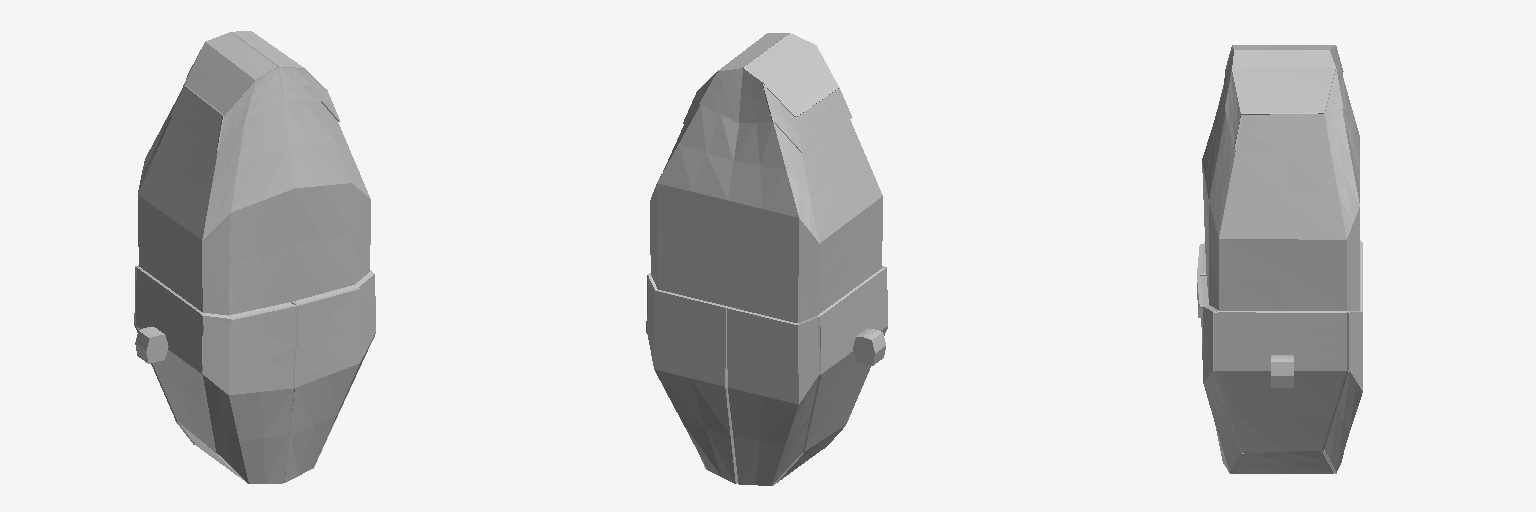
The model's file is office-character.obj.
The picture shows the model from 3 angles: view 1: azimuth 30°, elevation 25°; view 2: azimuth 150°, elevation 25°; view 3: azimuth 270°, elevation 25°; orthographic projection.
Parts seen in each view (by area): view 1: Cube; view 2: Cube; view 3: Cube.
Boxes of the visible parts, box(x1,y1,x2,y2) form: Cube: box(134, 31, 375, 483); Cube: box(646, 33, 887, 485); Cube: box(1197, 45, 1362, 473).
Bounding box in the file's own units: 0.3429 × 0.5936 × 0.2167.